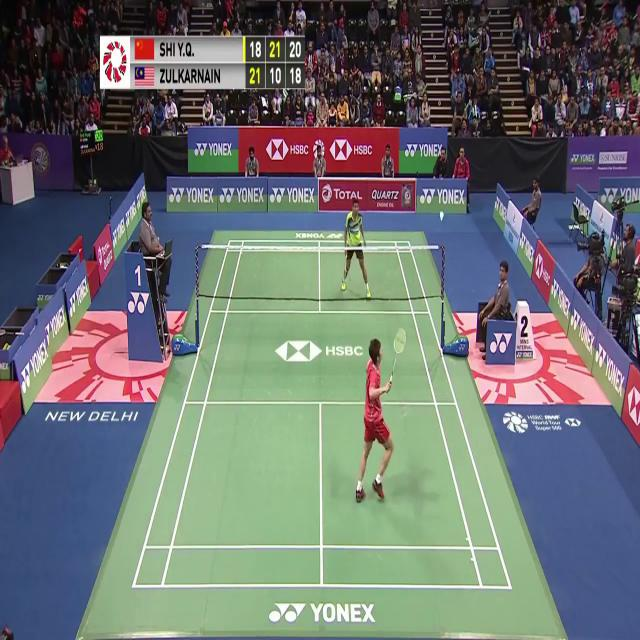Shuttlecock: (439, 213, 445, 224)
